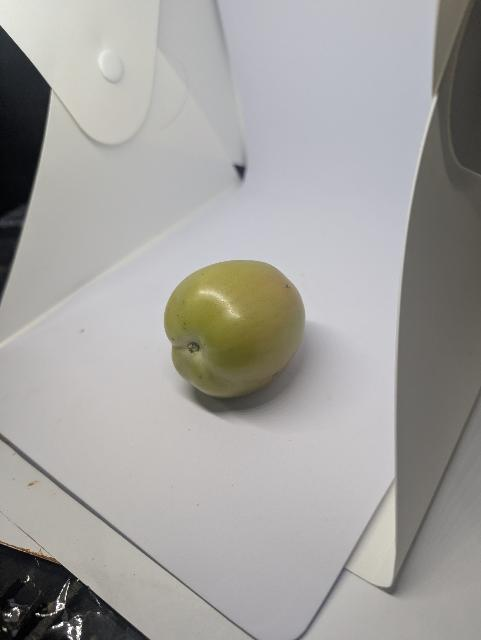breaker: (142, 259, 330, 405)
